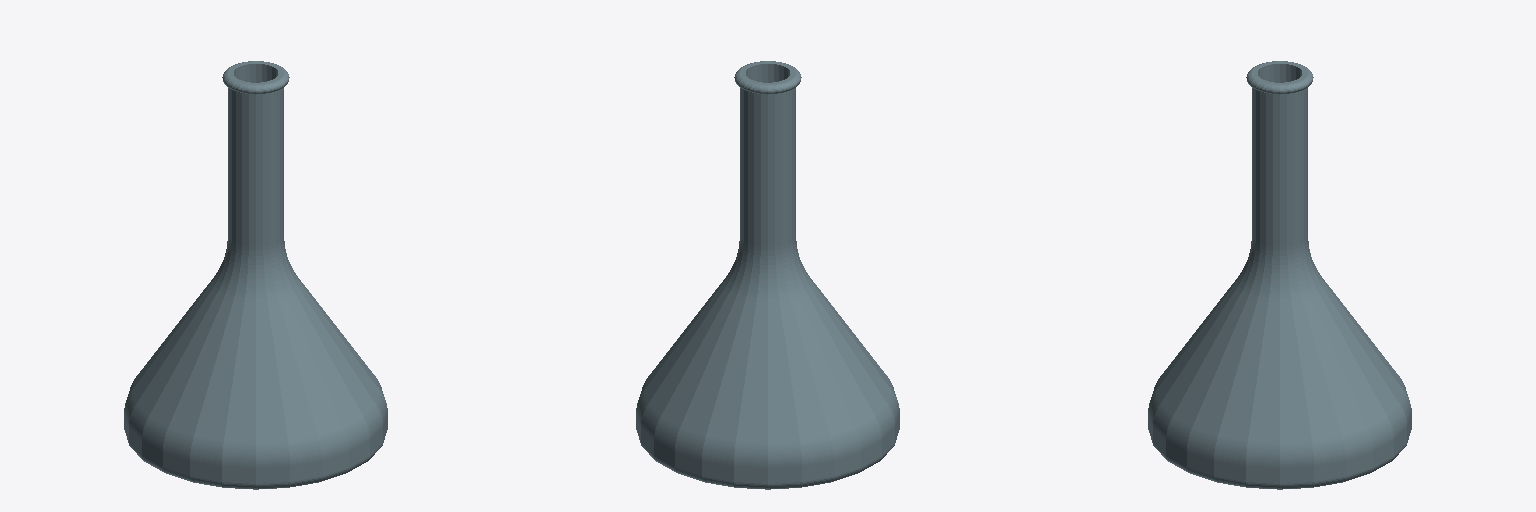
File: MaatkolfNoKurk.obj
3 views of the same model, side by side, from view 1: azimuth 30°, elevation 25°; view 2: azimuth 150°, elevation 25°; view 3: azimuth 270°, elevation 25° (orthographic).
Parts seen in each view (by area): view 1: Mesh1_small_Erlenmeyer_flask1_Erlenmeyer_flask_and_stopper1.000; view 2: Mesh1_small_Erlenmeyer_flask1_Erlenmeyer_flask_and_stopper1.000; view 3: Mesh1_small_Erlenmeyer_flask1_Erlenmeyer_flask_and_stopper1.000.
Part boxes in pixels (bbox=[...]): Mesh1_small_Erlenmeyer_flask1_Erlenmeyer_flask_and_stopper1.000: bbox=[124, 61, 387, 489]; Mesh1_small_Erlenmeyer_flask1_Erlenmeyer_flask_and_stopper1.000: bbox=[636, 61, 899, 489]; Mesh1_small_Erlenmeyer_flask1_Erlenmeyer_flask_and_stopper1.000: bbox=[1148, 61, 1411, 489].
Size of the model in its own units: 11.14 by 17.06 by 11.14.